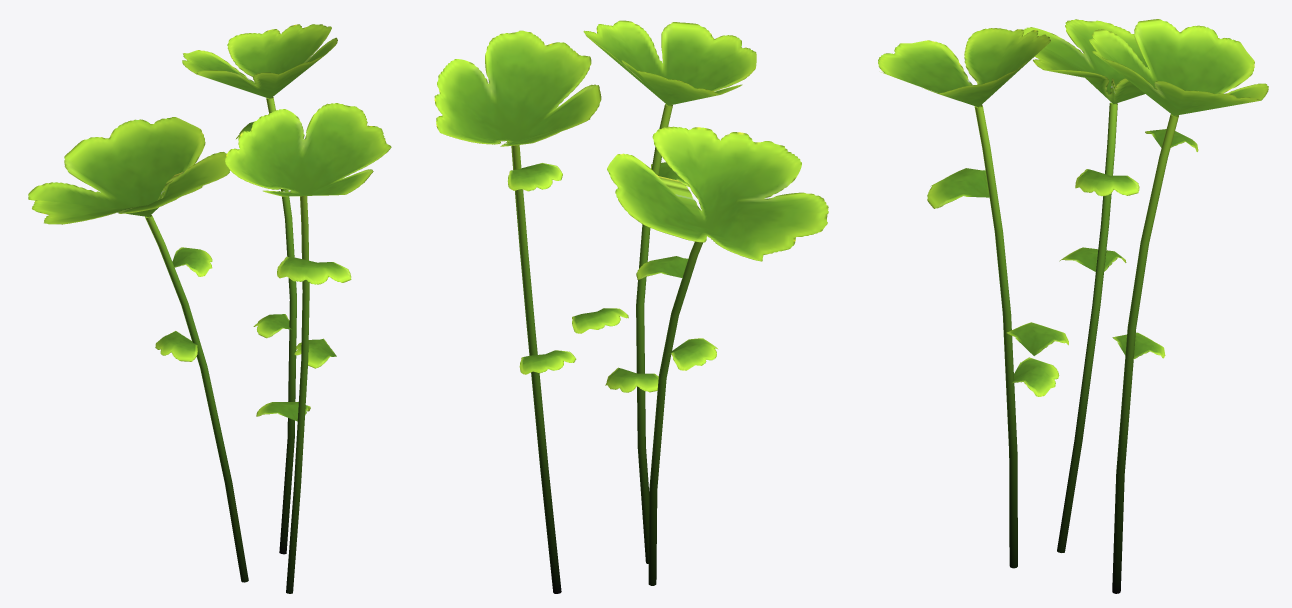
File: Clover_1.gltf
The picture shows the model from 3 angles, left to right: view 1: azimuth 30°, elevation 25°; view 2: azimuth 150°, elevation 25°; view 3: azimuth 270°, elevation 25°; orthographic projection. The views are drawn at different scales.
Visible parts, largest first — view 1: Clover_1; view 2: Clover_1; view 3: Clover_1.
Part boxes in pixels (x1,y1,x2,y2): Clover_1: (28,24,391,593); Clover_1: (434,20,828,593); Clover_1: (878,19,1268,593).
Bounding box in the file's own units: 0.7963 × 1.14 × 0.7639.
1 material, 1 textured.
